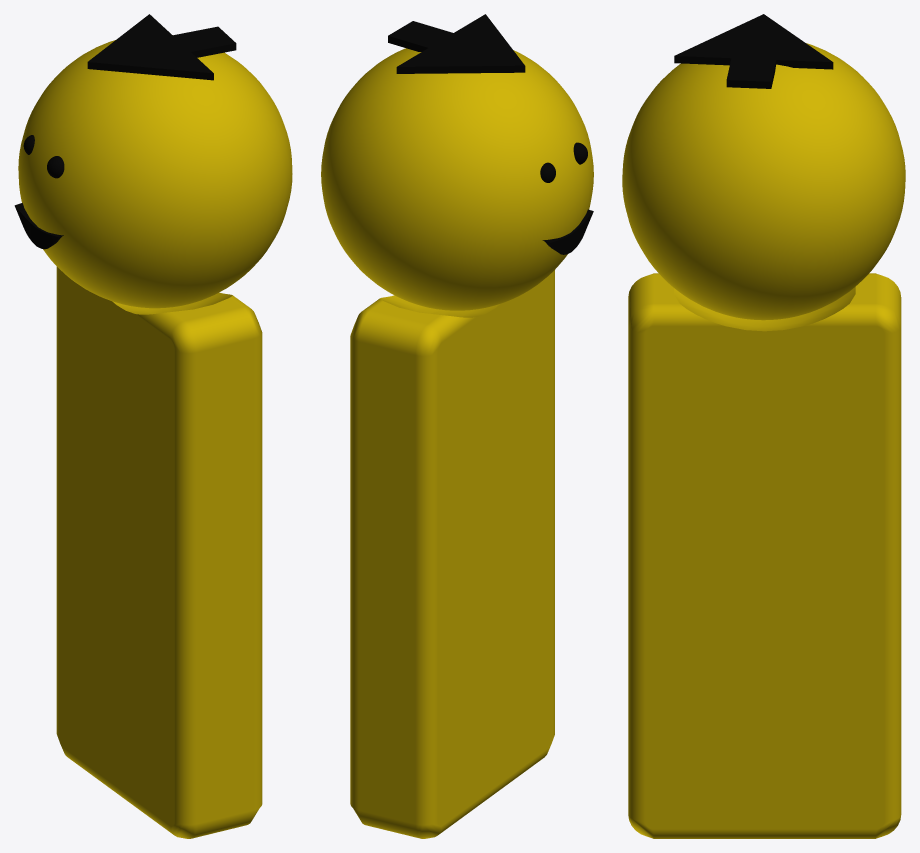
Rendered from yellow_smile.obj.
The picture shows the model from 3 angles, left to right: view 1: azimuth 30°, elevation 25°; view 2: azimuth 150°, elevation 25°; view 3: azimuth 270°, elevation 25°; orthographic projection. The views are drawn at different scales.
Visible parts, largest first — view 1: 1_Curve.002_Curve.001, 5.002_Curve.002_Curve.003_5.002_Curve.002_Curve.002; view 2: 1_Curve.002_Curve.001, 5.002_Curve.002_Curve.003_5.002_Curve.002_Curve.002; view 3: 1_Curve.002_Curve.001, 5.002_Curve.002_Curve.003_5.002_Curve.002_Curve.002.
Boxes of the visible parts, x1,y1,x2,y2 form: 1_Curve.002_Curve.001: [18, 40, 292, 838]; 5.002_Curve.002_Curve.003_5.002_Curve.002_Curve.002: [14, 14, 236, 249]; 1_Curve.002_Curve.001: [321, 48, 593, 838]; 5.002_Curve.002_Curve.003_5.002_Curve.002_Curve.002: [388, 14, 593, 254]; 1_Curve.002_Curve.001: [622, 43, 905, 838]; 5.002_Curve.002_Curve.003_5.002_Curve.002_Curve.002: [674, 14, 833, 88].
Bounding box in the file's own units: 0.1662 × 0.4993 × 0.1661.
